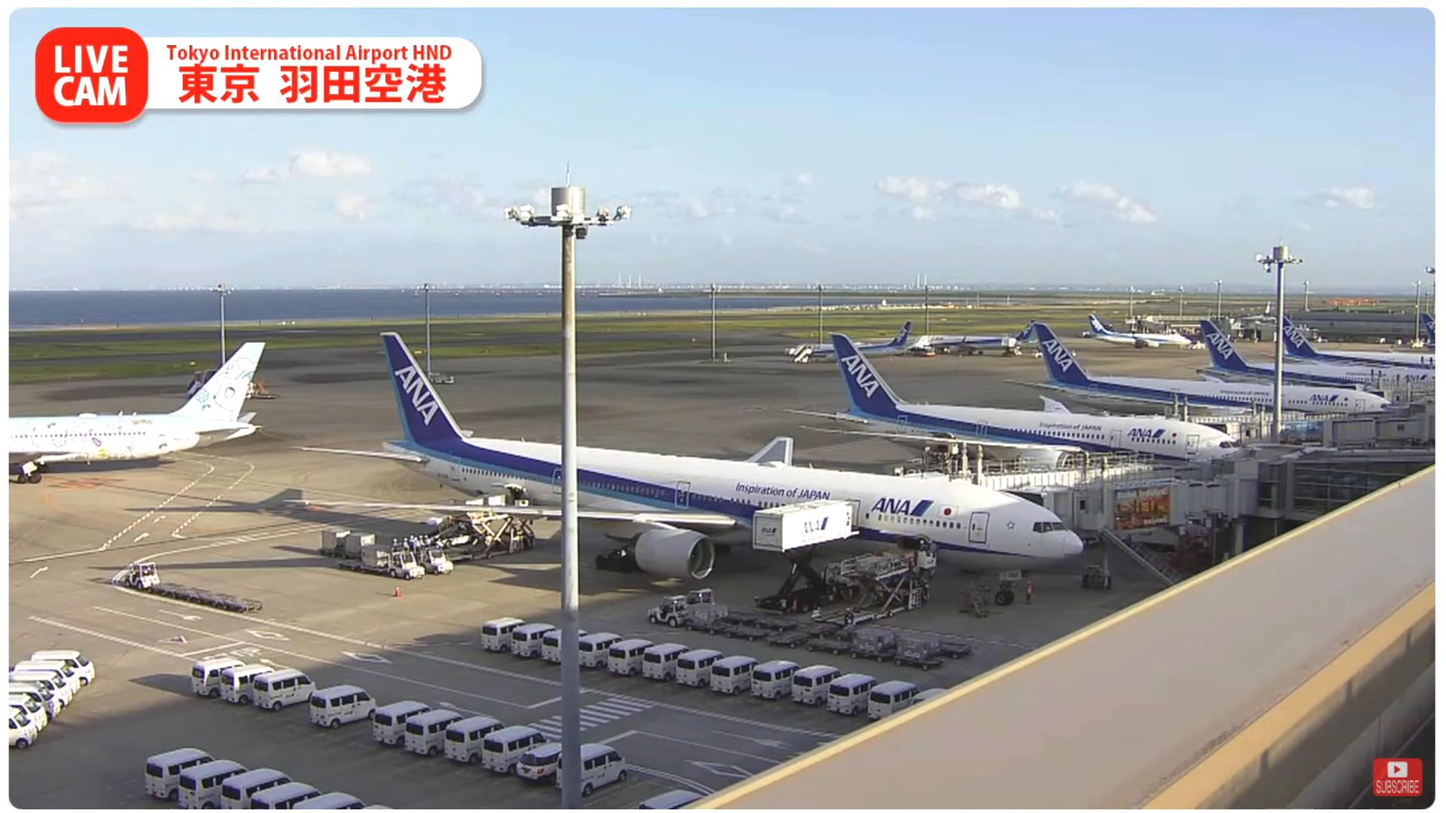Aerobridge: (1002, 452, 1258, 588), (892, 443, 1211, 486)
Airplane: (279, 333, 1086, 605)
Catering: (752, 499, 859, 615)
Dolly: (684, 620, 943, 672), (724, 611, 971, 659), (147, 580, 263, 614), (339, 559, 388, 573), (320, 547, 361, 560)
JCPL: (812, 551, 937, 626), (444, 513, 538, 563)
Skyloader: (419, 512, 486, 550)
Tractor: (647, 595, 689, 627), (125, 559, 161, 589), (388, 551, 424, 580), (419, 547, 453, 575), (681, 587, 713, 606)
ULD: (895, 632, 941, 660), (853, 627, 895, 652), (688, 603, 728, 627), (361, 544, 393, 568), (322, 525, 351, 551), (450, 498, 483, 518), (346, 532, 375, 554), (479, 494, 506, 515)
Window: (1291, 461, 1433, 515)
